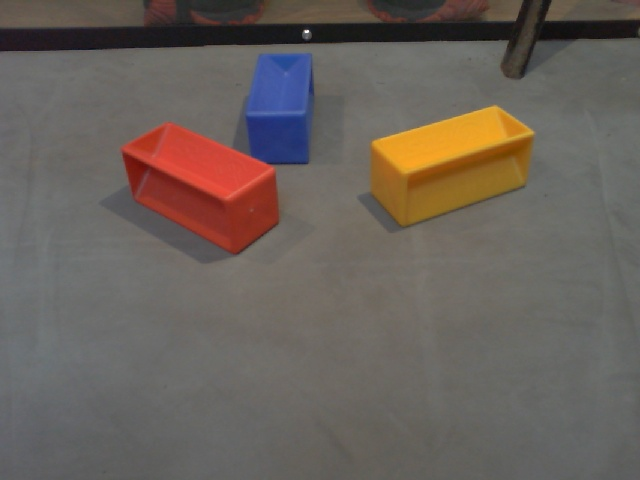BlueSample: (243, 51, 316, 166)
RedSample: (119, 119, 282, 260)
YellowSample: (365, 103, 536, 232)
